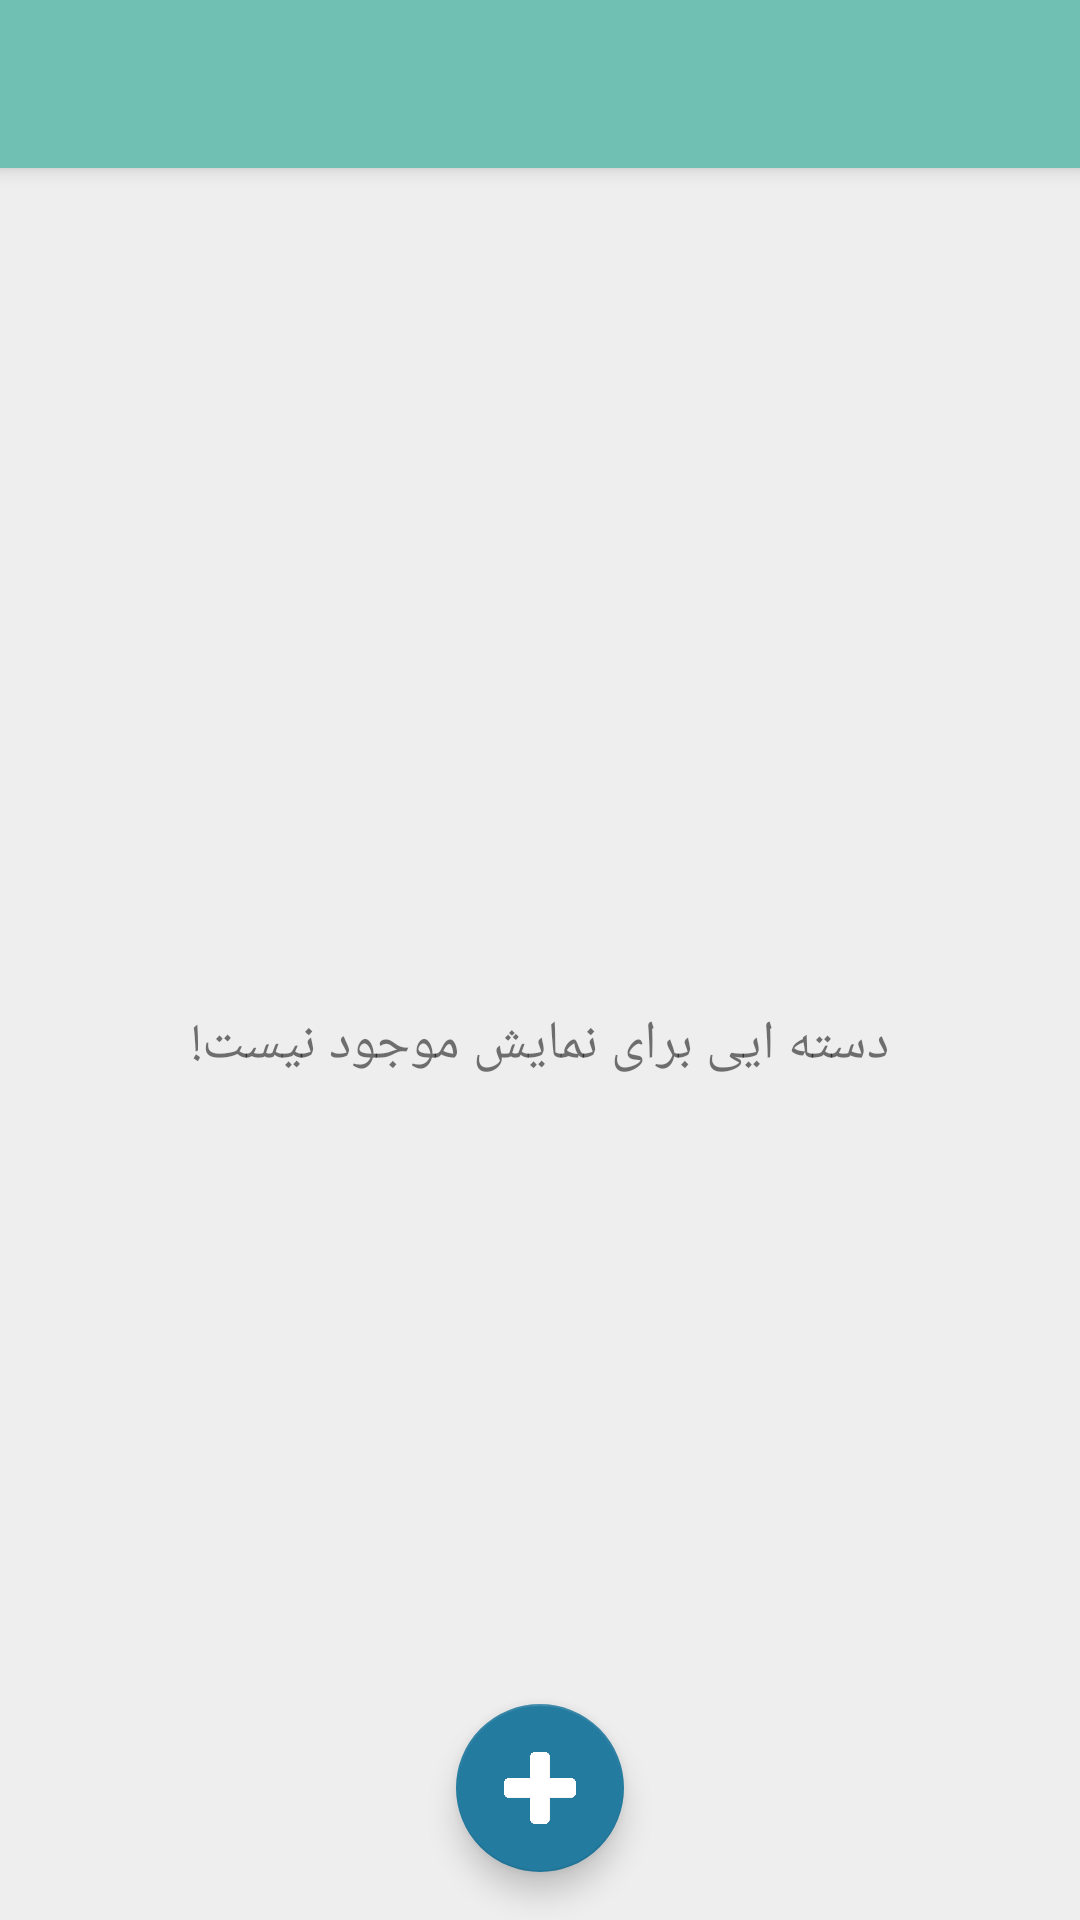

Screen size 1080px x 1920px. Icon name, then its box in pixels as bbox(x1, y1, x2, y2):
plus: bbox(456, 1704, 624, 1872)
